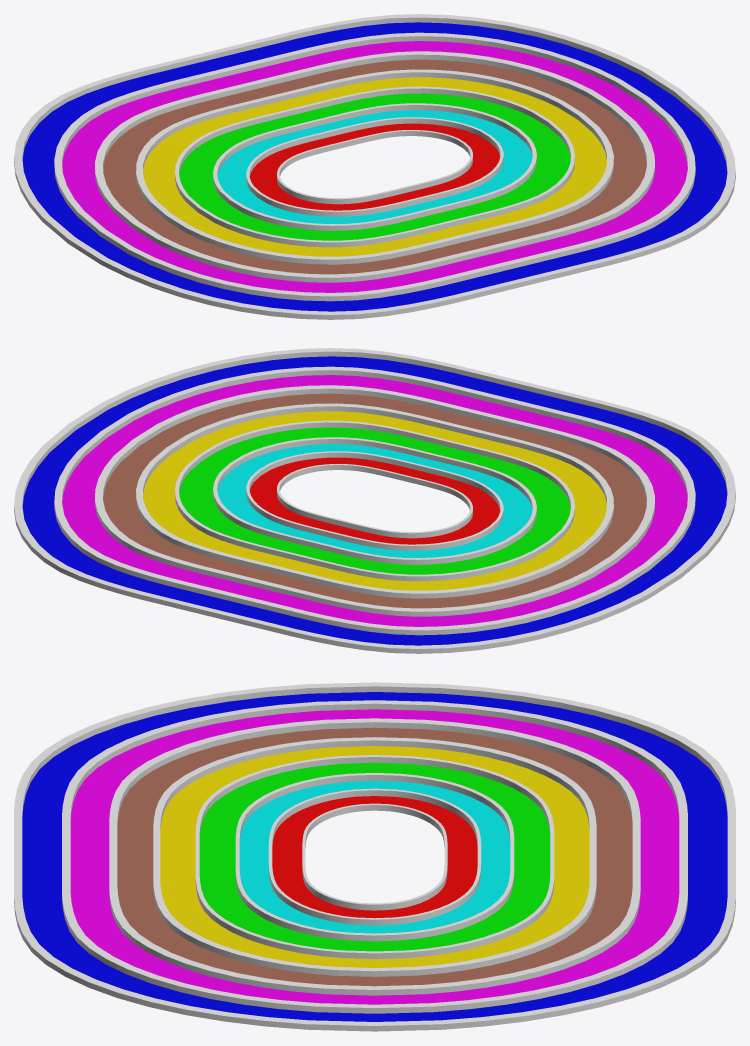
Rendered from san_1.fbx.
3 views of the same model, one above another, from view 1: azimuth 30°, elevation 25°; view 2: azimuth 150°, elevation 25°; view 3: azimuth 270°, elevation 25° (orthographic). The views are drawn at different scales.
Parts seen in each view (by area): view 1: san_3vong7, san3vong6, san3vong5, san3vong4, san3vong3, san3vong2, san3vong1; view 2: san_3vong7, san3vong6, san3vong5, san3vong4, san3vong3, san3vong2, san3vong1; view 3: san_3vong7, san3vong6, san3vong5, san3vong4, san3vong3, san3vong2, san3vong1.
Part boxes in pixels (x1,y1,x2,y2): san_3vong7: [14, 14, 735, 319]; san3vong6: [54, 32, 695, 301]; san3vong5: [95, 51, 654, 282]; san3vong4: [136, 69, 613, 264]; san3vong3: [175, 86, 574, 247]; san3vong2: [213, 103, 536, 230]; san3vong1: [246, 117, 503, 216]; san_3vong7: [14, 348, 735, 653]; san3vong6: [54, 366, 695, 635]; san3vong5: [95, 385, 654, 616]; san3vong4: [136, 403, 613, 598]; san3vong3: [175, 420, 574, 581]; san3vong2: [213, 437, 536, 564]; san3vong1: [246, 451, 503, 550]; san_3vong7: [14, 682, 735, 1031]; san3vong6: [62, 700, 687, 1013]; san3vong5: [109, 718, 640, 995]; san3vong4: [153, 737, 596, 976]; san3vong3: [195, 755, 554, 958]; san3vong2: [235, 773, 514, 941]; san3vong1: [268, 788, 481, 925].
Size of the model in its own units: 87.74 by 0.689 by 77.91.
